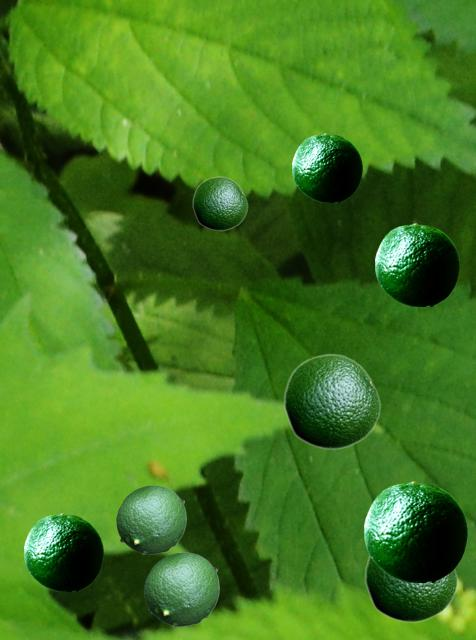calamansi: (364, 481, 466, 581), (283, 353, 380, 449), (375, 223, 458, 305), (364, 555, 457, 622), (24, 513, 102, 590), (144, 552, 218, 625), (292, 133, 361, 201), (116, 485, 185, 553), (192, 176, 247, 230)
